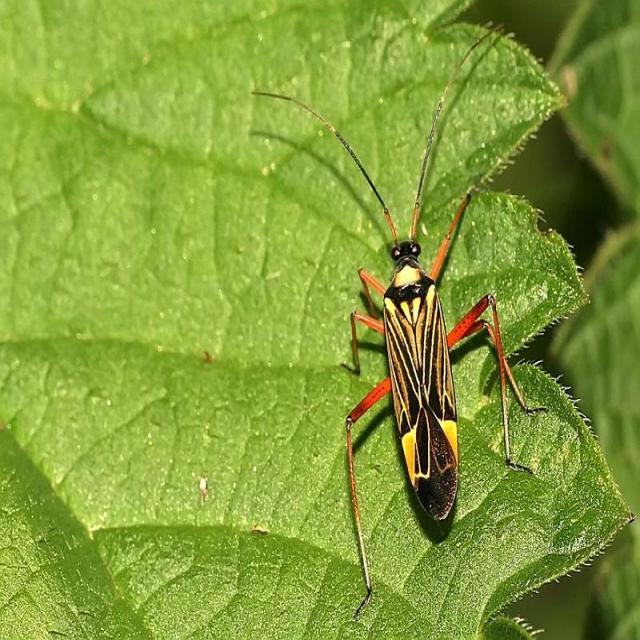Miridae-Adult-: (240, 29, 526, 574)
